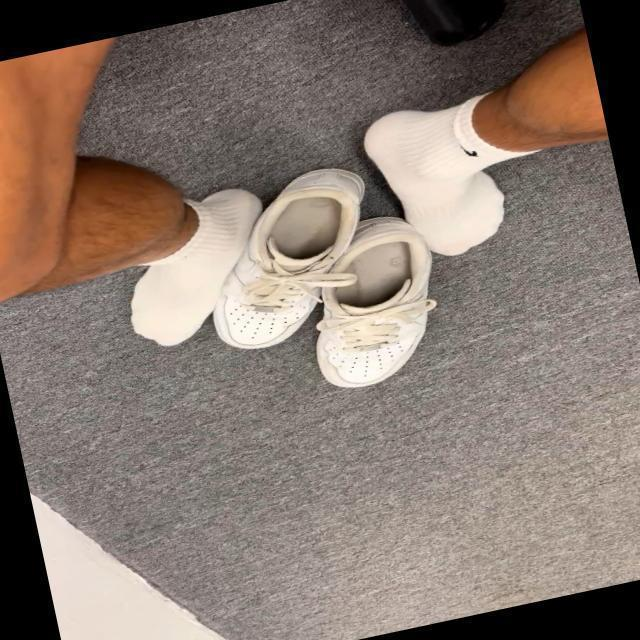nike original air force: (176, 152, 389, 356), (283, 208, 460, 399)
